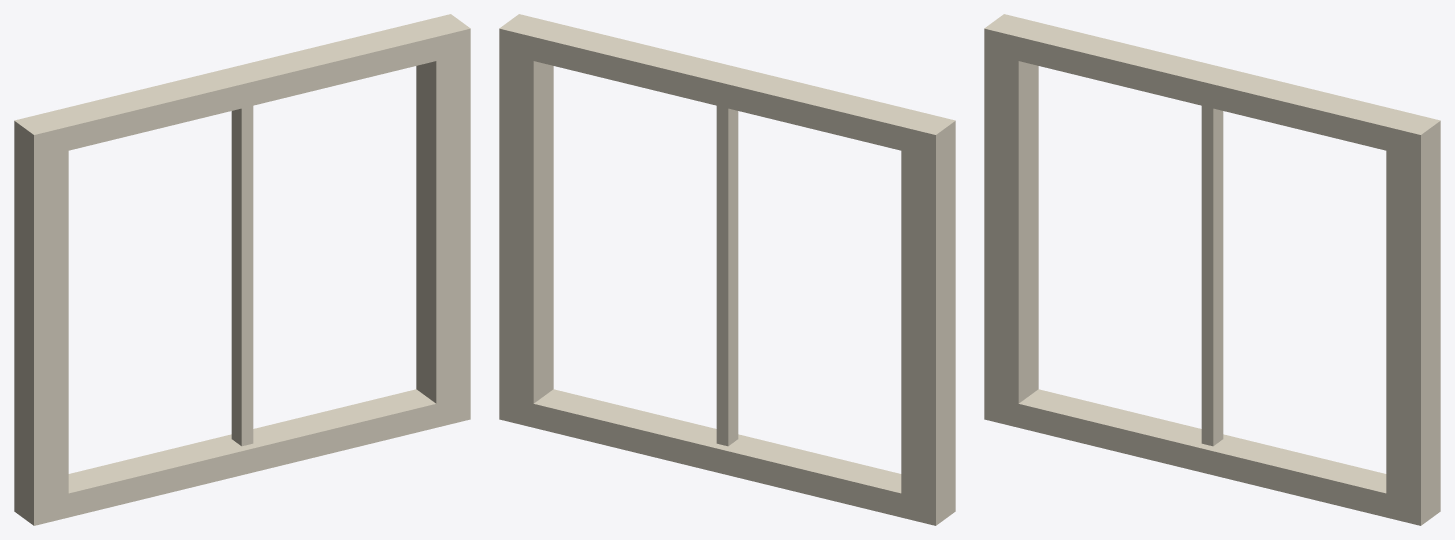
File: b-window_frame.glb
3 renders of one model, left to right at view 1: azimuth 30°, elevation 25°; view 2: azimuth 150°, elevation 25°; view 3: azimuth 330°, elevation 25°, orthographic.
Parts seen in each view (by area): view 1: b-window_frame; view 2: b-window_frame; view 3: b-window_frame.
Part boxes in pixels (x1,y1,x2,y2): b-window_frame: [14, 14, 470, 525]; b-window_frame: [499, 14, 955, 525]; b-window_frame: [984, 14, 1440, 525].
Bounding box in the file's own units: 1.52 × 1.3 × 0.12.
